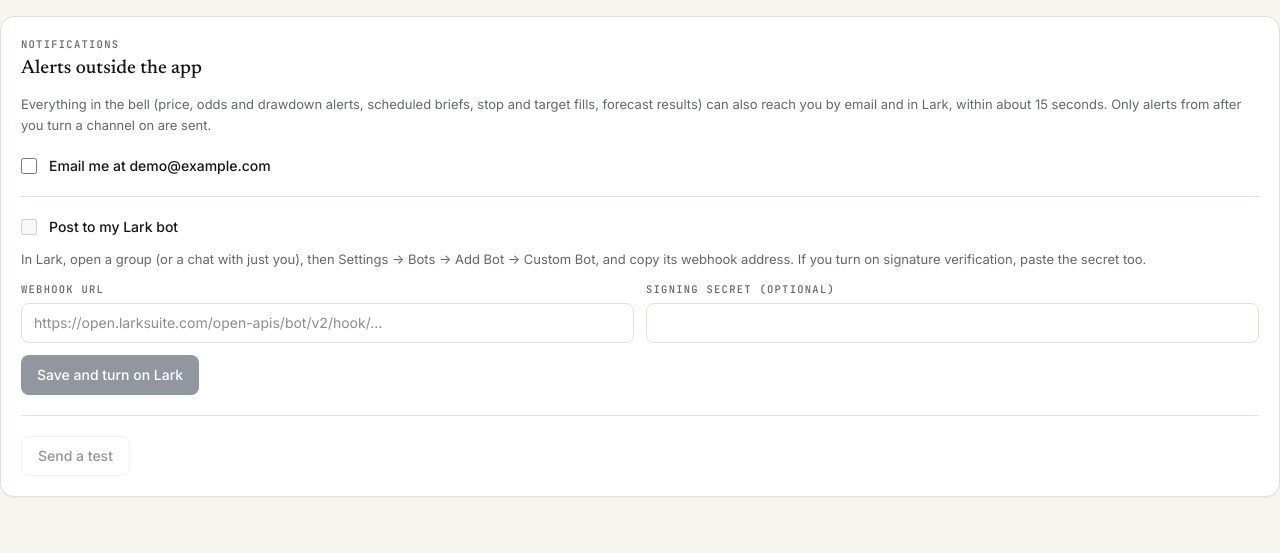
it: Account notifications › turns email on with one click
The width and height of the screenshot is (1280, 553).
Click the checkbox labelled "Email me at demo@example.com": (29, 166) [21,158,37,174]
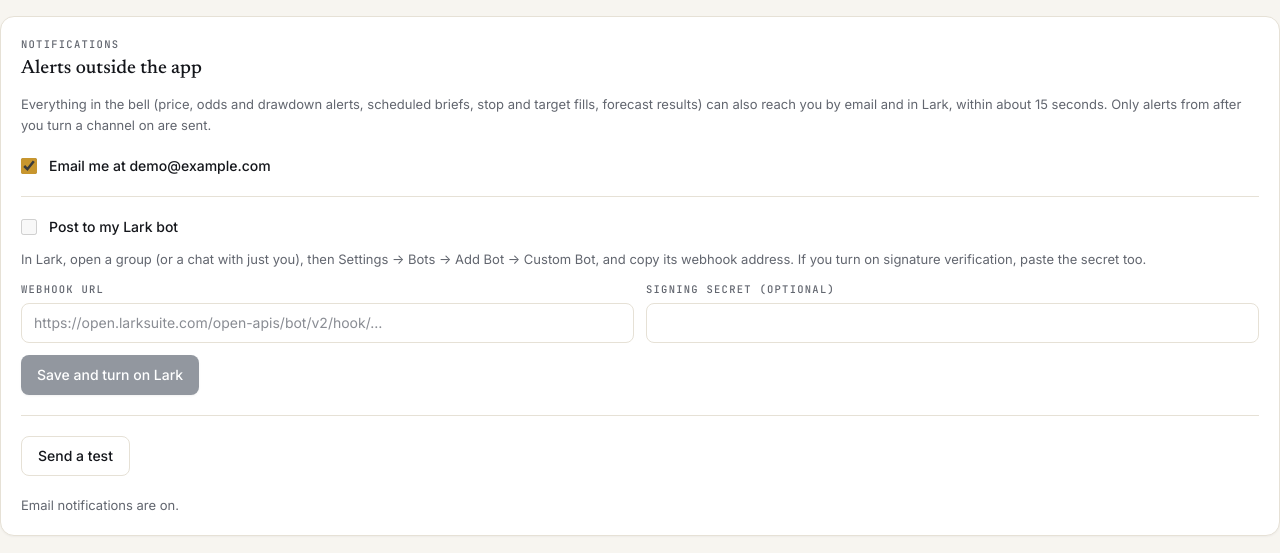
Check: the checkbox labelled "Email me at demo@example.com" is checked, box [21,158,37,174]
Check: the text "Email notifications are on." is shown, box [21,497,179,513]
